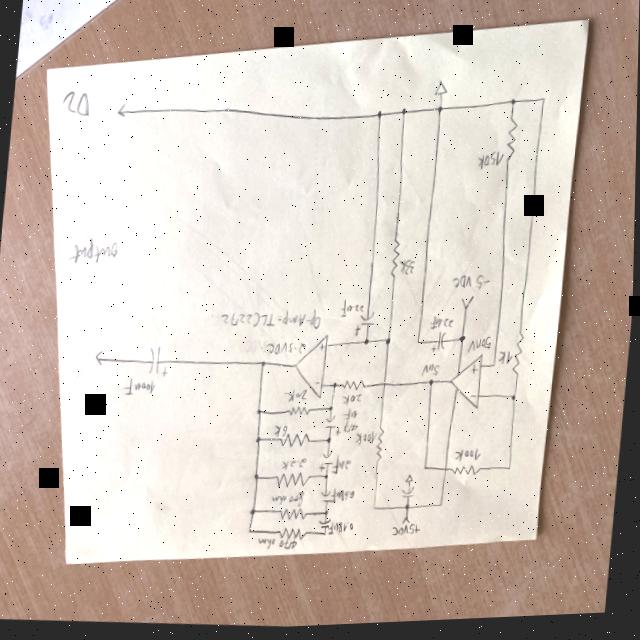capacitor: (148, 346, 170, 380), (354, 313, 376, 340), (319, 450, 336, 476), (325, 416, 343, 439), (431, 334, 447, 357), (320, 492, 334, 505), (402, 488, 416, 501), (320, 520, 333, 531)
crossover: (443, 468, 451, 477), (382, 383, 388, 390)
ground: (433, 82, 448, 101), (406, 476, 415, 487)
junction: (508, 99, 517, 112), (458, 336, 467, 348), (435, 107, 443, 118), (250, 508, 258, 518), (510, 397, 518, 406), (260, 360, 268, 369), (376, 113, 383, 122), (256, 437, 263, 446), (332, 383, 339, 392), (363, 340, 370, 349), (256, 409, 263, 418), (539, 99, 546, 108), (326, 438, 333, 446), (385, 340, 392, 348), (400, 110, 407, 118), (254, 475, 261, 483), (428, 382, 435, 390), (491, 365, 498, 373), (423, 468, 430, 475), (249, 530, 255, 537), (324, 511, 330, 518), (439, 504, 444, 511), (508, 470, 513, 476), (416, 342, 421, 348), (373, 507, 378, 513), (329, 408, 334, 414), (406, 507, 411, 513), (325, 476, 329, 482), (324, 533, 328, 538)
resistor: (503, 119, 519, 167), (276, 472, 312, 492), (278, 431, 313, 451), (512, 335, 526, 381), (389, 239, 403, 280), (279, 507, 309, 525), (453, 465, 483, 482), (279, 527, 309, 544), (287, 404, 313, 420), (342, 380, 367, 395), (376, 429, 386, 466)
terminal: (460, 297, 475, 314), (114, 102, 127, 119), (94, 349, 105, 366), (403, 519, 413, 528)
text: (211, 303, 323, 335), (68, 233, 121, 268), (451, 273, 492, 298), (266, 340, 308, 360), (124, 376, 157, 398), (271, 491, 307, 510), (258, 537, 299, 553), (476, 152, 504, 175), (340, 300, 366, 321), (392, 524, 424, 541), (454, 449, 483, 467), (328, 520, 355, 539), (331, 489, 357, 508), (468, 339, 494, 357), (332, 456, 353, 478), (430, 317, 456, 334), (282, 457, 308, 474), (355, 432, 378, 450), (286, 389, 310, 406), (398, 260, 416, 279), (498, 351, 514, 371), (422, 365, 441, 381), (343, 395, 364, 408), (343, 409, 359, 423), (344, 422, 360, 435), (275, 425, 289, 438), (470, 365, 481, 381), (318, 343, 327, 353), (314, 382, 322, 390), (470, 395, 478, 403)
